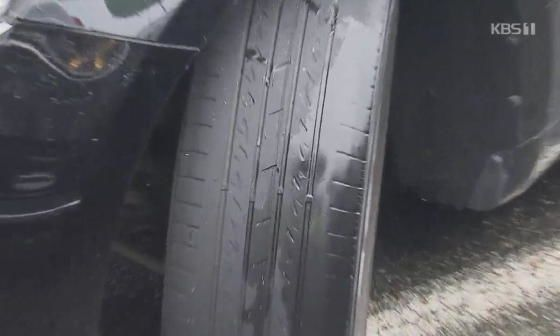bad_condition: (165, 2, 399, 336)
